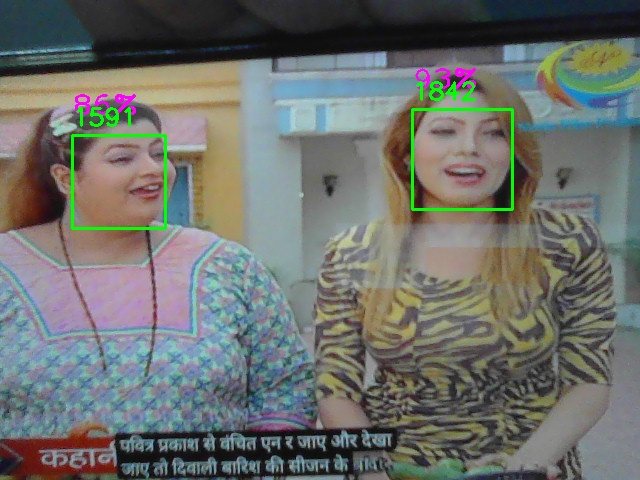fake: (412, 109, 513, 210), (72, 135, 166, 229)
